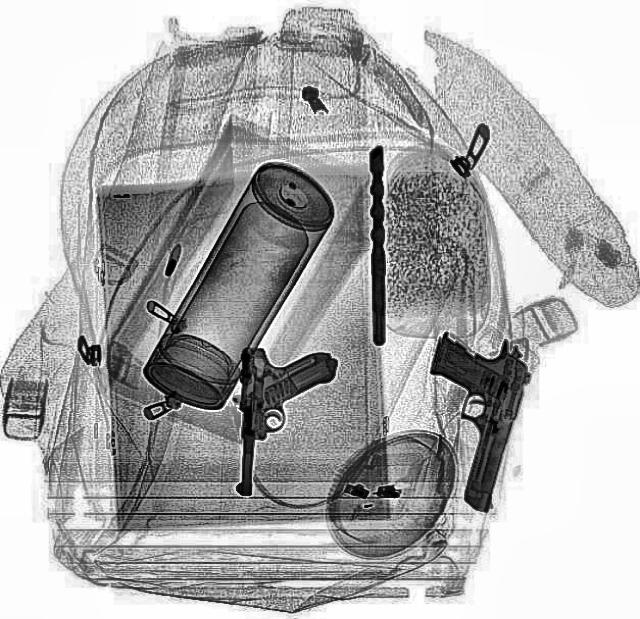Gun: (388, 321, 538, 515), (234, 346, 336, 498)
